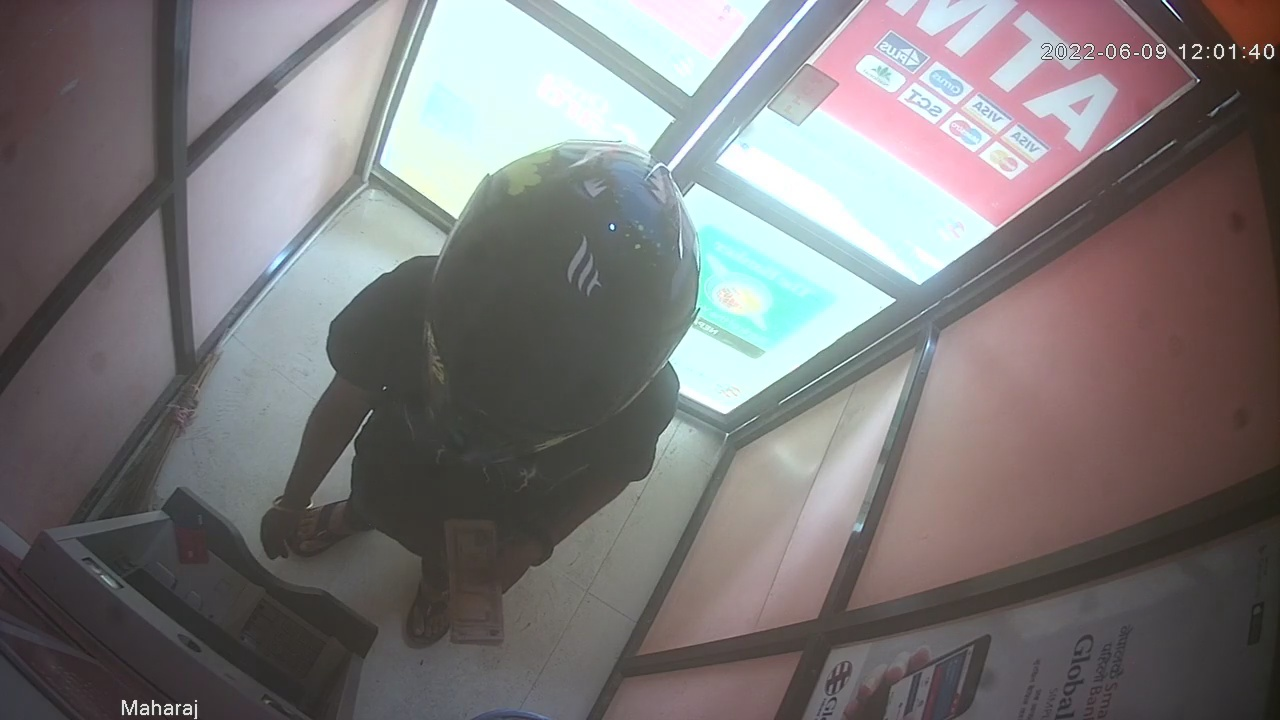helmet: (413, 137, 698, 465)
person: (258, 136, 701, 650)
